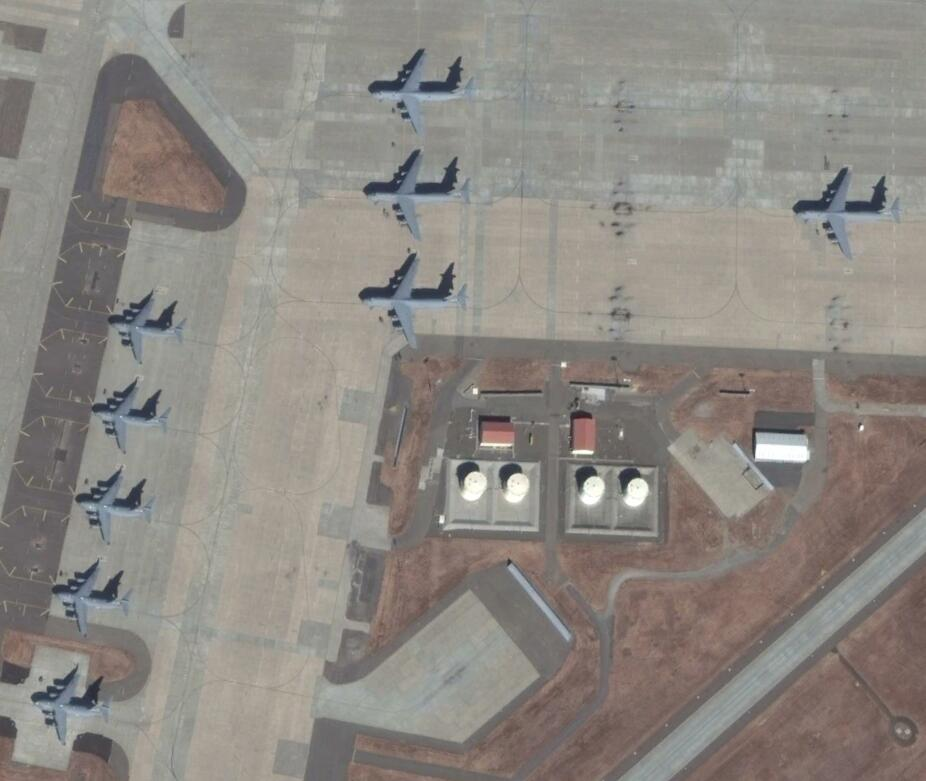A3: (32, 668, 113, 744), (53, 565, 137, 637), (75, 472, 156, 546), (90, 384, 173, 453), (110, 292, 188, 363)
A4: (360, 253, 469, 349), (794, 165, 901, 259), (365, 150, 473, 238), (369, 52, 480, 133)
